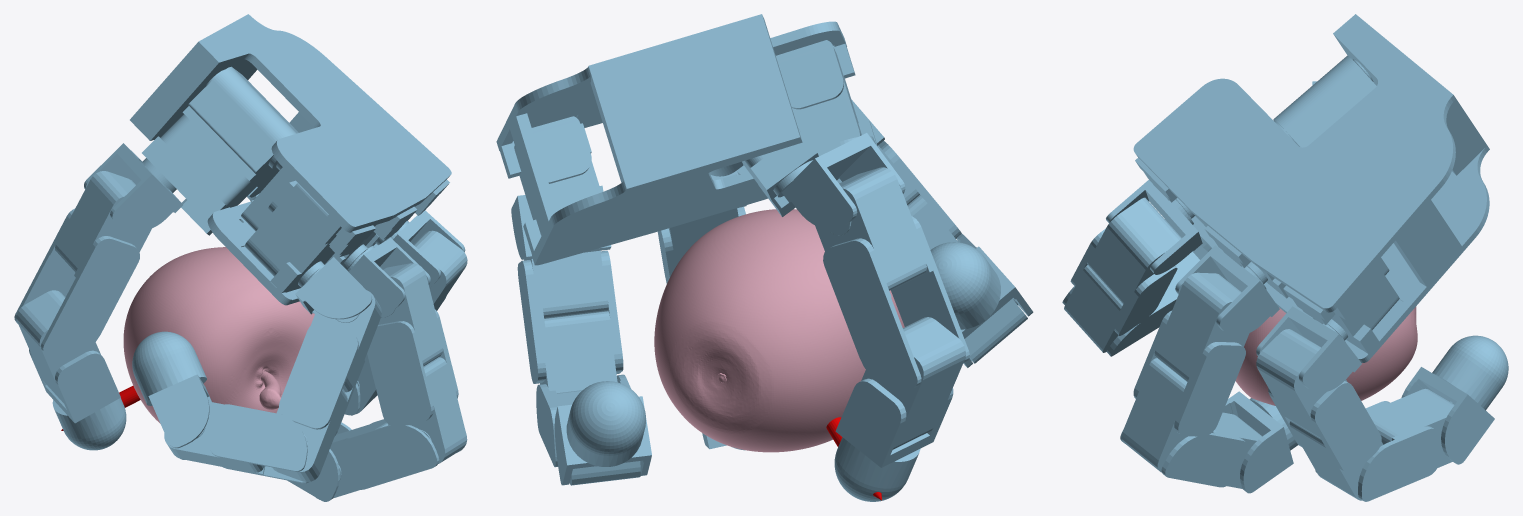
3 renders of one model, left to right at view 1: azimuth 30°, elevation 25°; view 2: azimuth 150°, elevation 25°; view 3: azimuth 270°, elevation 25°, orthographic. The views are drawn at different scales.
Parts seen in each view (by area): view 1: world, apple.stl; view 2: world, apple.stl; view 3: world, apple.stl.
Part boxes in pixels (x1,y1,x2,y2): world: [14, 14, 467, 501]; apple.stl: [123, 247, 314, 423]; world: [496, 14, 1033, 501]; apple.stl: [654, 209, 904, 452]; world: [1062, 14, 1508, 501]; apple.stl: [1235, 306, 1417, 405].
Bounding box in the file's own units: 0.1717 × 0.1734 × 0.1631.
